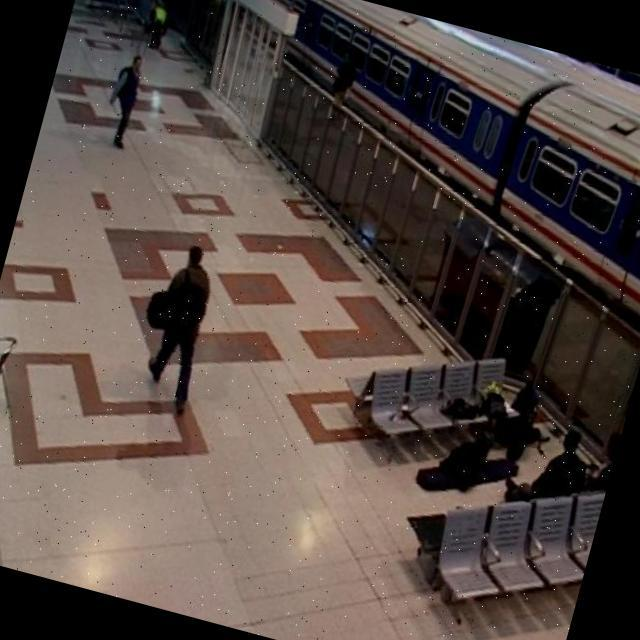person: (120, 232, 228, 416), (93, 45, 152, 153)
